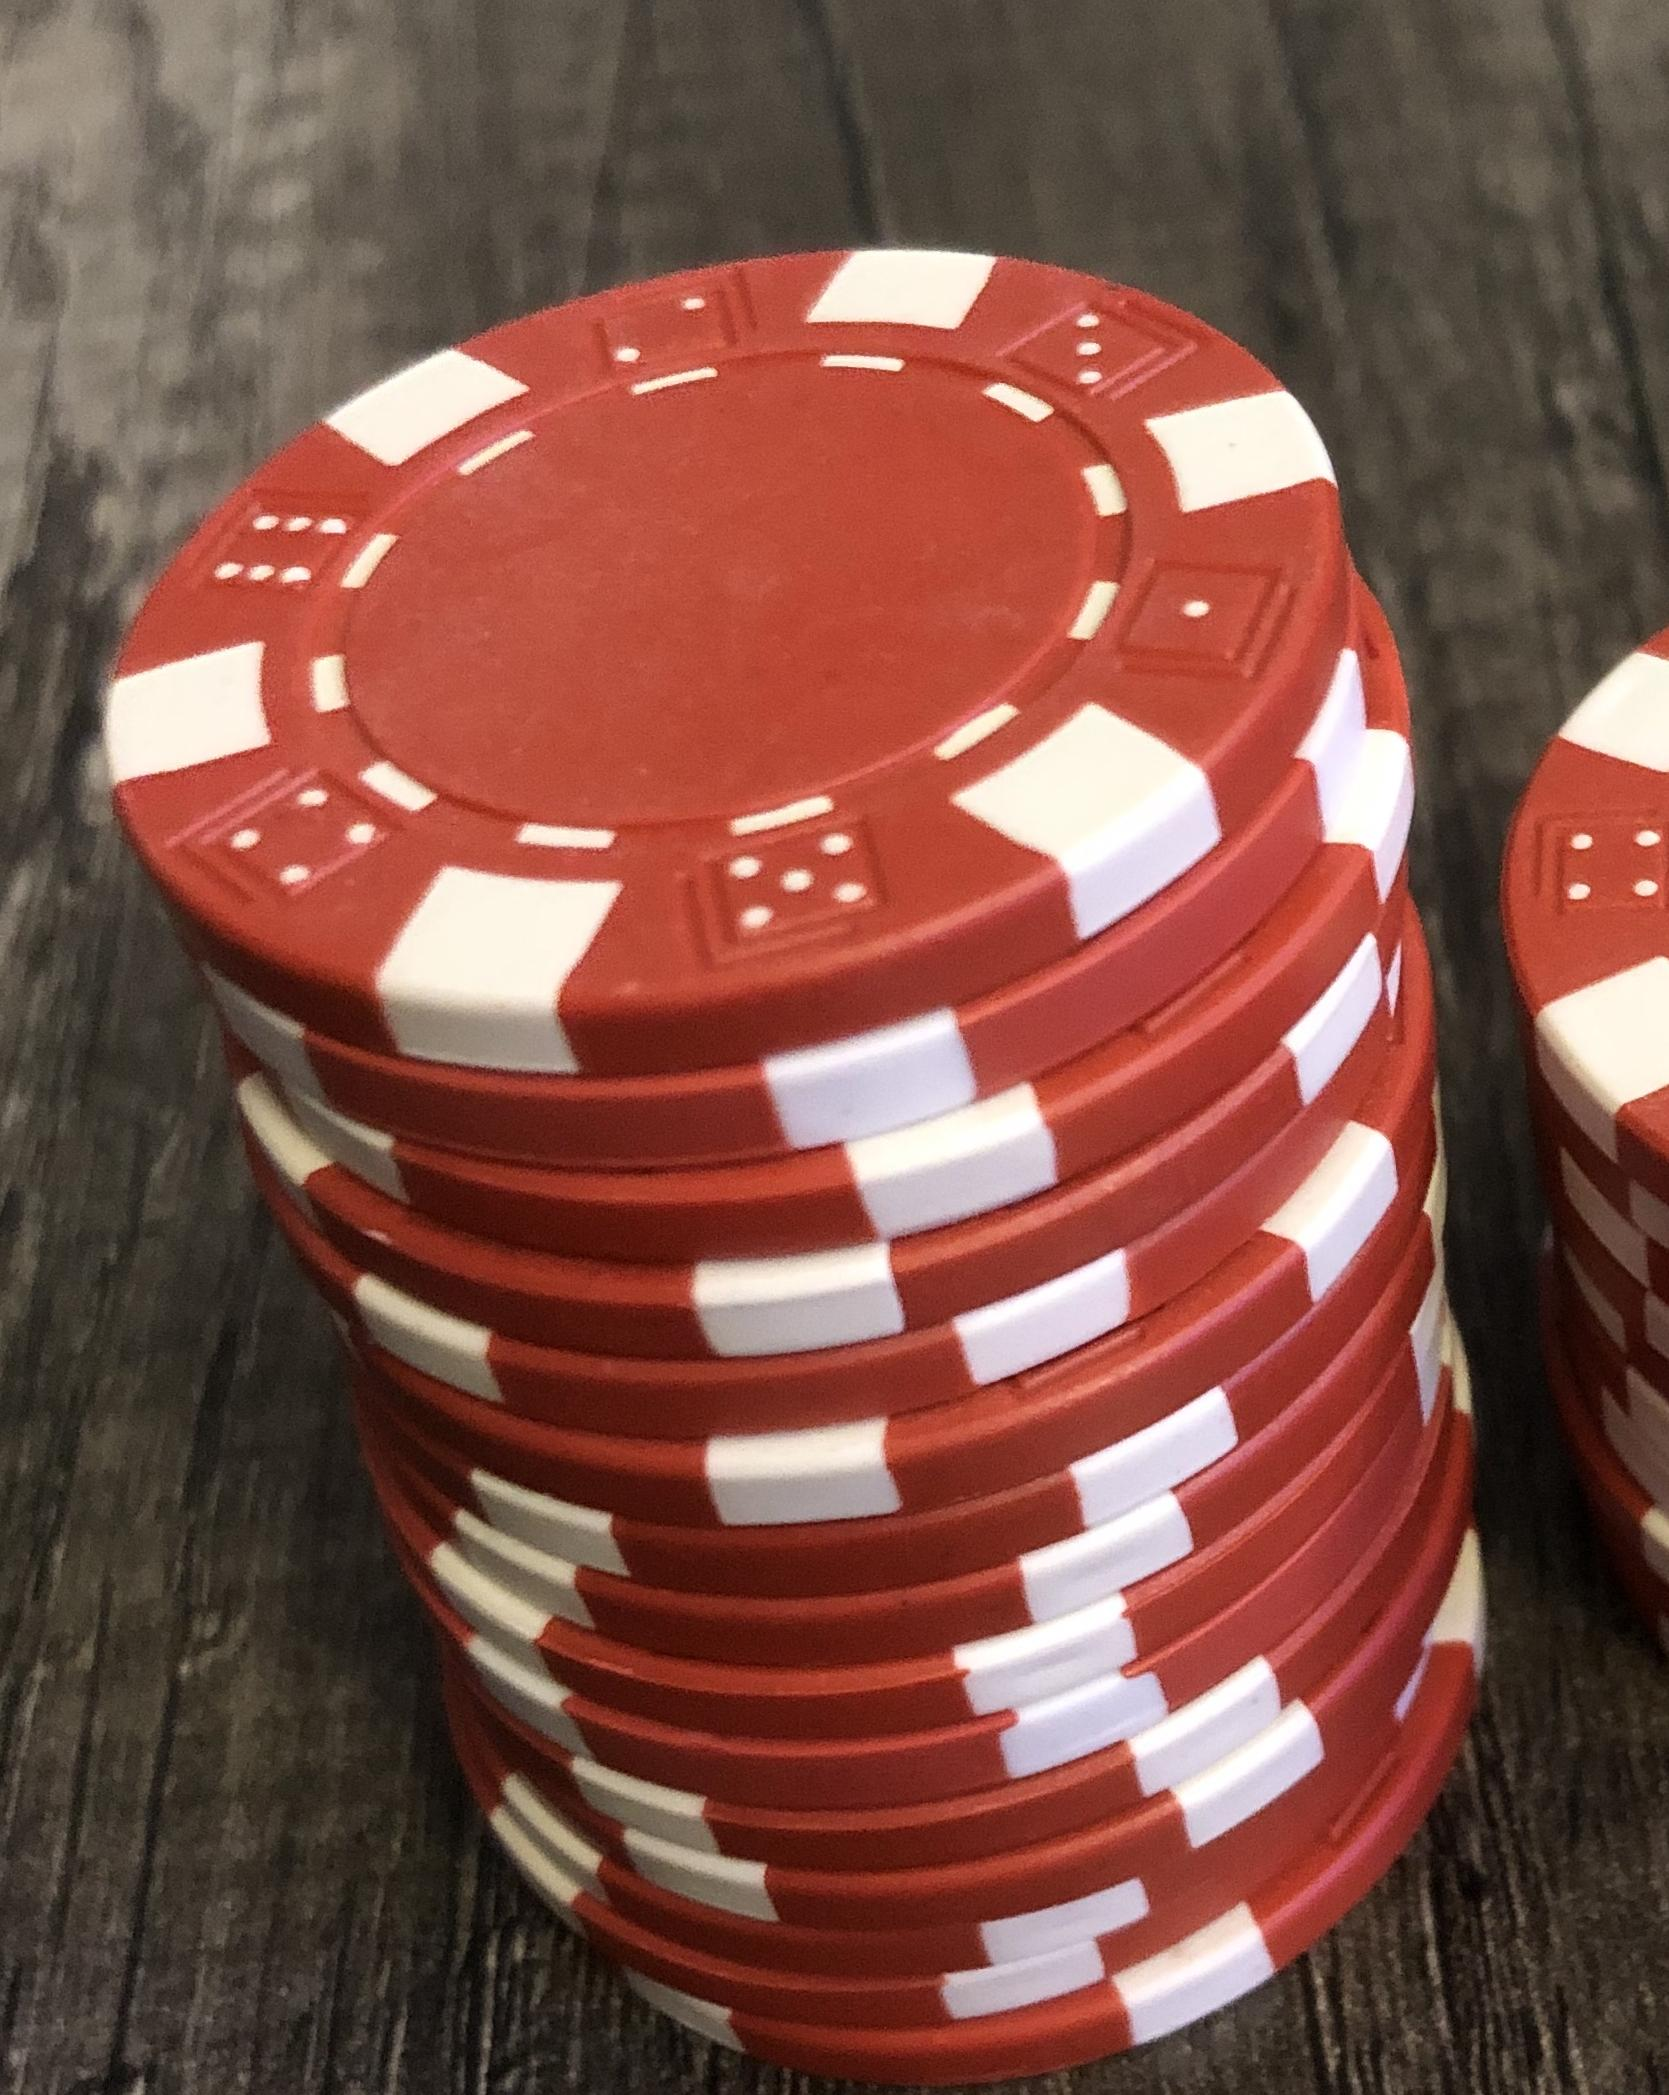Chip: (2, 2, 1669, 2095)
